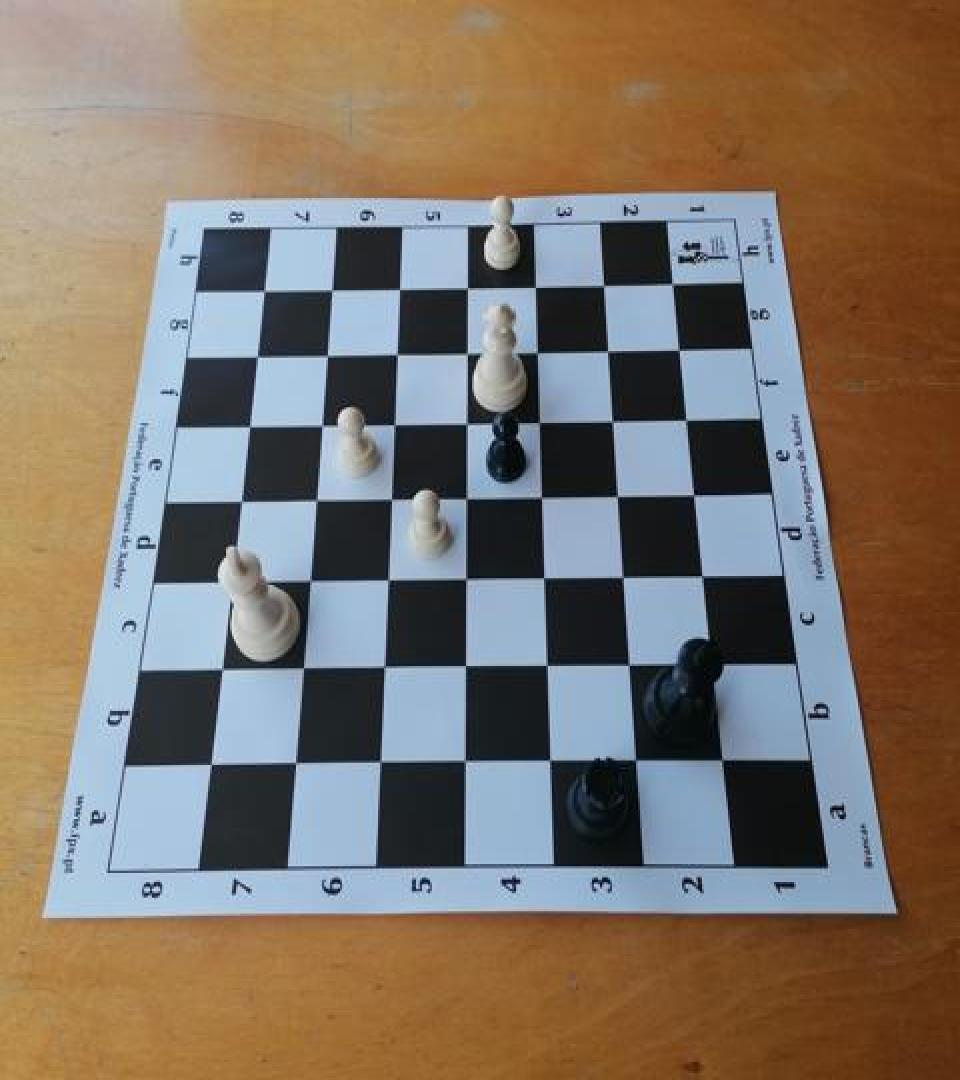xcorner: (196, 749, 226, 783), (281, 748, 311, 782), (366, 748, 396, 782), (452, 747, 482, 781), (537, 747, 567, 781), (623, 746, 653, 780), (710, 744, 740, 778), (207, 654, 237, 688), (370, 651, 400, 685), (452, 651, 482, 685), (534, 650, 564, 684), (617, 649, 647, 683), (699, 649, 729, 683), (295, 564, 325, 598), (373, 564, 403, 598), (452, 562, 482, 596), (531, 561, 561, 595), (611, 560, 641, 594), (690, 560, 720, 594), (301, 482, 331, 516), (377, 482, 407, 516), (453, 480, 483, 514), (529, 479, 559, 513), (605, 478, 635, 512), (681, 477, 711, 511), (234, 407, 264, 441), (307, 406, 337, 440), (380, 405, 410, 439), (453, 404, 483, 438), (600, 402, 630, 436), (673, 402, 703, 436), (242, 336, 272, 370), (312, 335, 342, 369), (382, 334, 412, 368), (453, 333, 483, 367), (524, 332, 554, 366), (595, 330, 625, 364), (666, 330, 696, 364), (249, 270, 279, 304), (317, 269, 347, 303), (385, 268, 415, 302), (453, 266, 483, 300), (522, 266, 552, 300), (590, 264, 620, 298), (659, 264, 689, 298), (288, 653, 318, 686), (216, 565, 246, 598), (225, 483, 255, 516), (526, 403, 556, 436)
